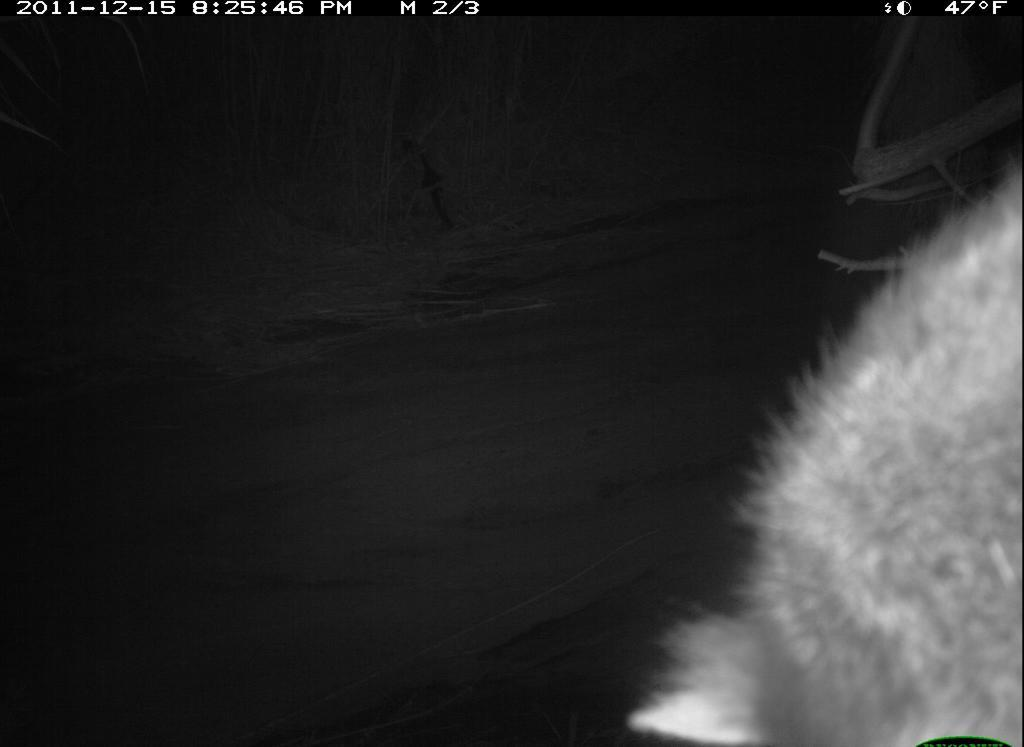raccoon: (620, 167, 1023, 747)
